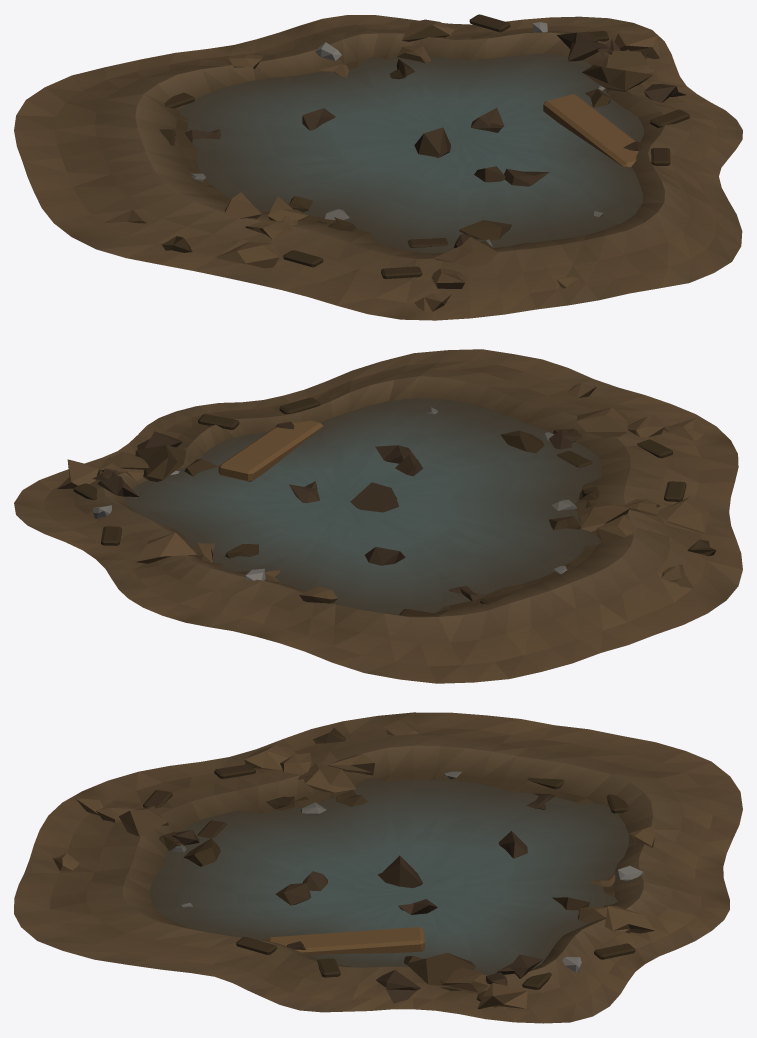
Rendered from puddle-decal.glb.
3 views of the same model, one above another, from view 1: azimuth 30°, elevation 25°; view 2: azimuth 150°, elevation 25°; view 3: azimuth 270°, elevation 25° (orthographic).
Visible parts, largest first — view 1: puddle_decal; view 2: puddle_decal; view 3: puddle_decal.
Part boxes in pixels (<box>): puddle_decal: <box>14,14,742,320</box>; puddle_decal: <box>14,349,742,683</box>; puddle_decal: <box>14,712,742,1023</box>.
Size of the model in its own units: 2.16 by 0.115 by 2.13.
